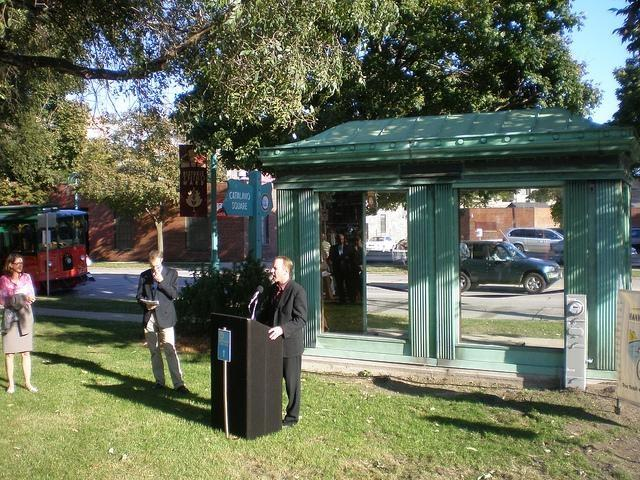bus: (0, 204, 90, 294)
car: (461, 227, 563, 295), (509, 228, 564, 256), (366, 236, 396, 252)
